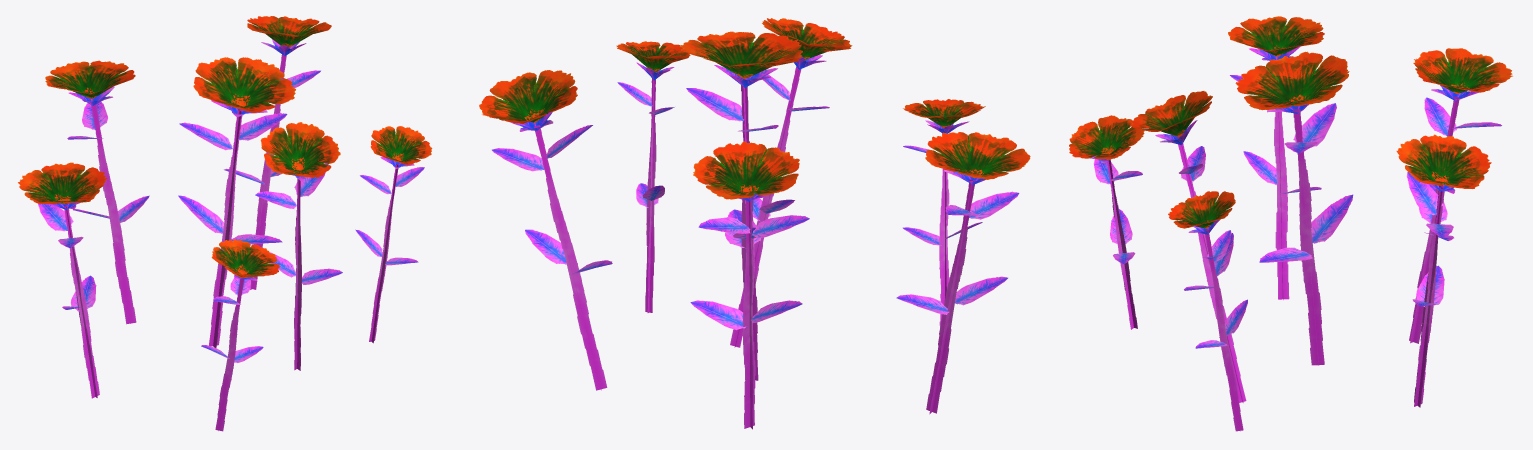
The model's file is SM_Arterial_flowers_clump.fbx.
The picture shows the model from 3 angles, left to right: view 1: azimuth 30°, elevation 25°; view 2: azimuth 150°, elevation 25°; view 3: azimuth 270°, elevation 25°; orthographic projection. The views are drawn at different scales.
Parts seen in each view (by area): view 1: SM_Arterial_flowers_clump_LOD0; view 2: SM_Arterial_flowers_clump_LOD0; view 3: SM_Arterial_flowers_clump_LOD0.
Part boxes in pixels (left/top/right/bottom): SM_Arterial_flowers_clump_LOD0: left=18, top=16, right=432, bottom=431; SM_Arterial_flowers_clump_LOD0: left=479, top=18, right=1030, bottom=429; SM_Arterial_flowers_clump_LOD0: left=1069, top=16, right=1512, bottom=431.
Size of the model in its own units: 45.03 by 42.11 by 32.8.
